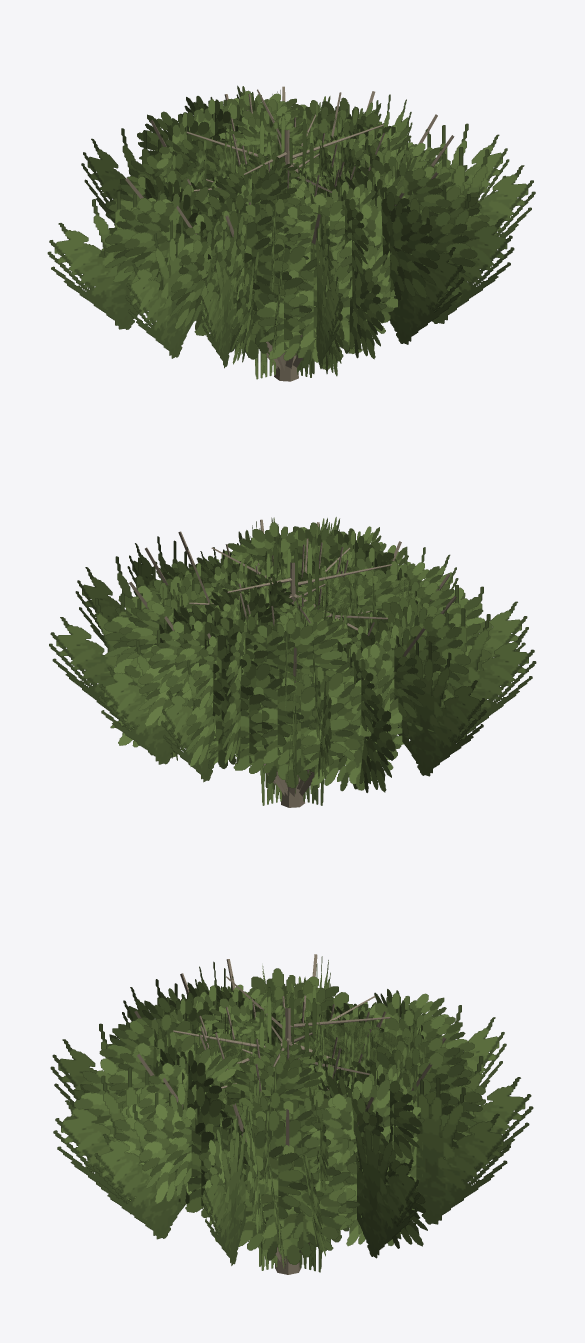
The model's file is vegetation-kit.glb.
The picture shows the model from 3 angles, top to bottom: view 1: azimuth 30°, elevation 25°; view 2: azimuth 150°, elevation 25°; view 3: azimuth 270°, elevation 25°; orthographic projection. The views are drawn at different scales.
Visible parts, largest first — view 1: willow-lod0, shrub-bramble, pollard-lod0, oak-lod0, lime-lod0, pine-lod0, birch-lod0, ground-reed, shrub-broom, shrub-hazel, poplar-lod0, snag-lod0; view 2: willow-lod0, pollard-lod0, shrub-bramble, oak-lod0, lime-lod0, pine-lod0, poplar-lod0, ground-reed, birch-lod0, snag-lod0, shrub-broom, ground-meadow; view 3: willow-lod0, shrub-bramble, pollard-lod0, oak-lod0, lime-lod0, pine-lod0, birch-lod0, ground-reed, poplar-lod0, shrub-broom, snag-lod0, shrub-hazel.
Part boxes in pixels (box(x1,y1,x2,y2)): willow-lod0: box(99, 95, 489, 376); shrub-bramble: box(47, 86, 535, 370); pollard-lod0: box(109, 85, 461, 381); oak-lod0: box(160, 99, 409, 234); lime-lod0: box(190, 111, 385, 208); pine-lod0: box(154, 119, 343, 348); birch-lod0: box(203, 112, 355, 195); ground-reed: box(255, 108, 320, 374); shrub-broom: box(215, 110, 352, 202); shrub-hazel: box(193, 109, 432, 346); poplar-lod0: box(235, 123, 332, 189); snag-lod0: box(186, 89, 383, 192); willow-lod0: box(103, 517, 492, 792); pollard-lod0: box(119, 517, 465, 807); shrub-bramble: box(49, 519, 536, 796); oak-lod0: box(172, 554, 419, 683); lime-lod0: box(207, 560, 400, 756); pine-lod0: box(208, 566, 398, 763); poplar-lod0: box(256, 569, 349, 614); ground-reed: box(262, 543, 321, 801); birch-lod0: box(230, 563, 365, 626); snag-lod0: box(189, 547, 391, 623); shrub-broom: box(232, 542, 355, 628); ground-meadow: box(260, 768, 324, 805); willow-lod0: box(64, 965, 485, 1268); shrub-bramble: box(50, 954, 533, 1265); pollard-lod0: box(99, 981, 474, 1274); oak-lod0: box(181, 986, 412, 1128); lime-lod0: box(197, 997, 394, 1104); pine-lod0: box(218, 1003, 344, 1227); birch-lod0: box(220, 998, 376, 1092); ground-reed: box(252, 985, 321, 1266); poplar-lod0: box(230, 1009, 344, 1071); shrub-broom: box(192, 1002, 385, 1077); snag-lod0: box(173, 976, 390, 1088); shrub-hazel: box(239, 1062, 361, 1136).
Size of what is drawn, in the model's own units: 2.13 by 1.16 by 1.93.
2 materials, 1 textured.
